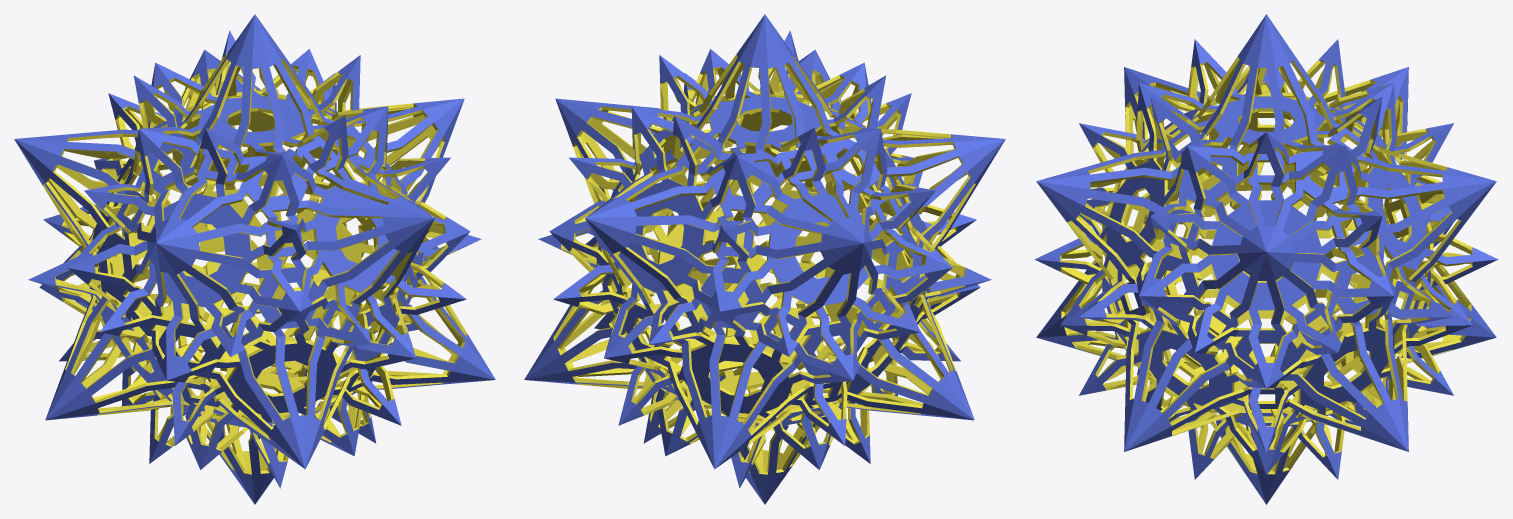
Rendered from StarPolyknotTruncatedIcosidodecahedron.glb.
3 renders of one model, left to right at view 1: azimuth 30°, elevation 25°; view 2: azimuth 150°, elevation 25°; view 3: azimuth 270°, elevation 25°, orthographic.
Parts seen in each view (by area): view 1: ESCHER_BBBat_A12; view 2: ESCHER_BBBat_A12; view 3: ESCHER_BBBat_A12.
Part boxes in pixels (left/top/right/bottom): ESCHER_BBBat_A12: left=14, top=14, right=495, bottom=504; ESCHER_BBBat_A12: left=524, top=14, right=1005, bottom=504; ESCHER_BBBat_A12: left=1034, top=14, right=1498, bottom=504.
Bounding box in the file's own units: 134 × 150 × 129.
